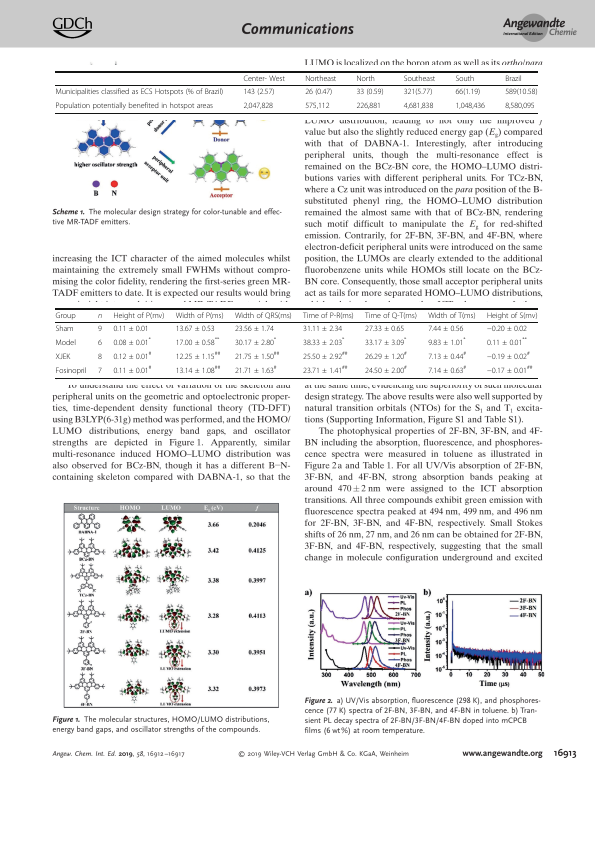borderless: (55, 307, 538, 378), (55, 70, 538, 113)
cell: (55, 87, 224, 97), (55, 101, 214, 111), (234, 311, 293, 320), (486, 364, 533, 375), (175, 350, 221, 361), (234, 350, 280, 361), (302, 350, 348, 361), (175, 364, 221, 375), (302, 364, 348, 375), (175, 336, 220, 347), (486, 350, 531, 361), (364, 311, 418, 320), (364, 350, 408, 361), (234, 364, 278, 375), (364, 364, 408, 375), (112, 311, 165, 320), (302, 311, 355, 320), (234, 336, 277, 347), (302, 336, 345, 347), (364, 336, 407, 347), (486, 311, 538, 320), (486, 336, 528, 347), (427, 311, 477, 320), (175, 311, 224, 320), (112, 336, 152, 347), (427, 336, 467, 347), (112, 350, 152, 361), (427, 350, 467, 361), (112, 364, 152, 375), (427, 364, 467, 375), (242, 74, 286, 83), (486, 324, 528, 333), (175, 324, 216, 333), (234, 324, 275, 333), (302, 324, 343, 333), (364, 324, 405, 333), (112, 324, 150, 333), (504, 87, 538, 97), (427, 324, 464, 333), (242, 87, 275, 97), (242, 101, 274, 111), (454, 101, 486, 111), (504, 101, 536, 111), (403, 101, 434, 111), (403, 87, 433, 97), (304, 74, 337, 83), (403, 74, 436, 83), (304, 87, 333, 97), (355, 87, 384, 97), (55, 366, 87, 375), (454, 87, 481, 97), (355, 101, 382, 111), (304, 101, 330, 111), (55, 338, 77, 347), (55, 311, 76, 320), (355, 74, 376, 83), (454, 74, 475, 83), (55, 324, 74, 333), (504, 74, 523, 83), (55, 352, 71, 361), (97, 324, 103, 333), (97, 338, 103, 347), (97, 352, 103, 361), (97, 366, 103, 375), (97, 313, 103, 319)
